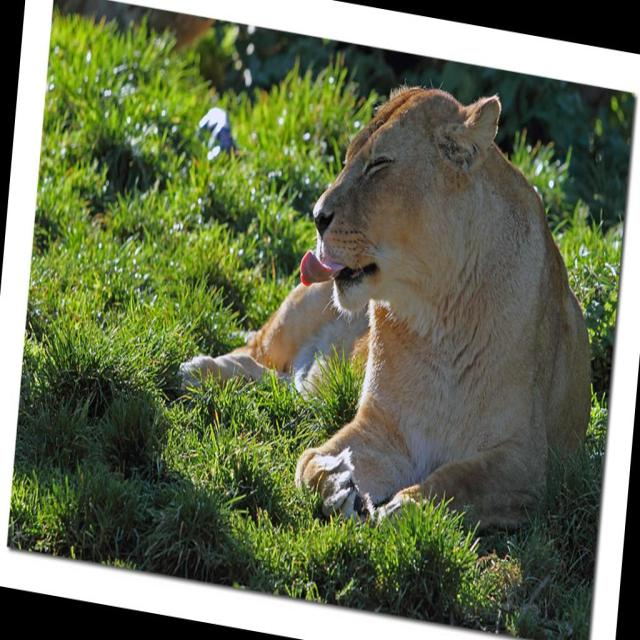Lion: (162, 37, 616, 566)
